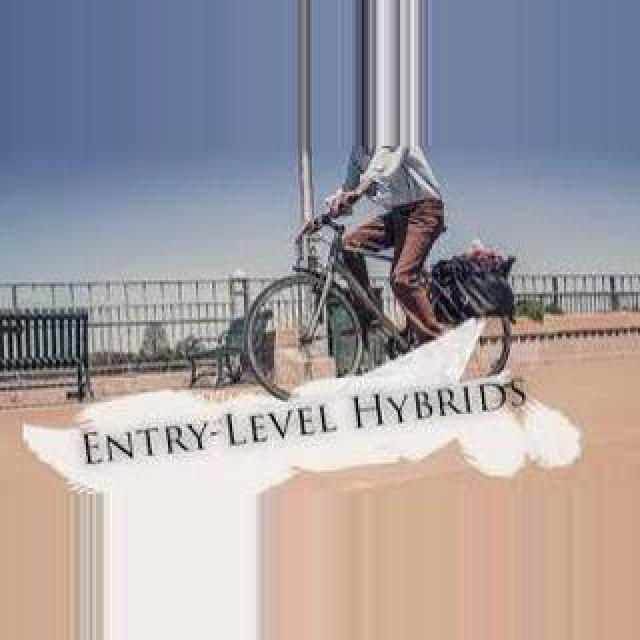MC-Bike: (318, 146, 450, 350)
Person: (242, 204, 514, 406)
